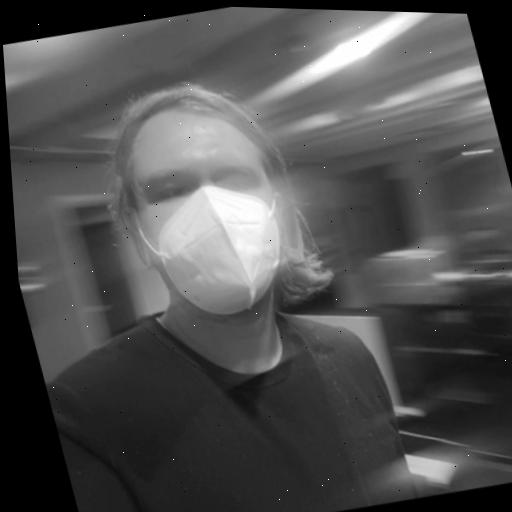mask: (69, 38, 347, 351)
